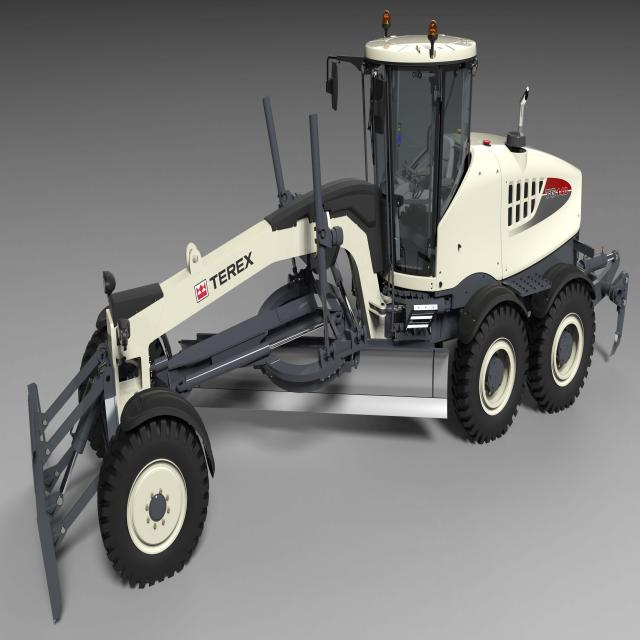Grader: (43, 33, 625, 584)
